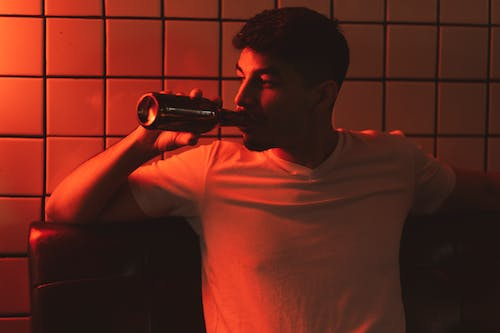alcohol: (135, 91, 252, 135)
